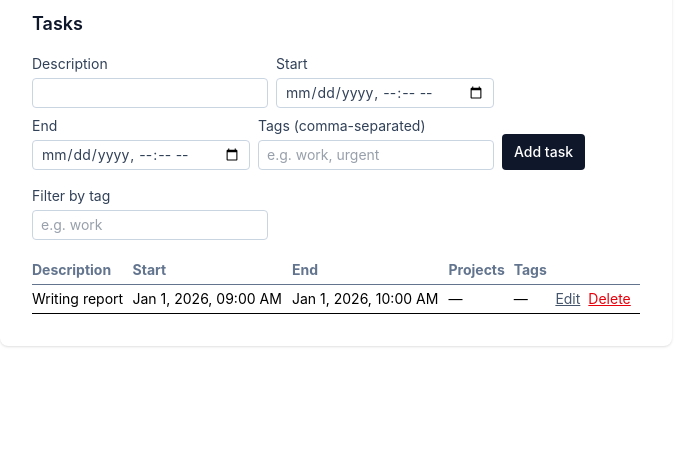
Test: TaskList › cancels editing without saving
Expected: the text "Writing report" is shown, [32,284,132,314]
Click the button "Edit".
click(568, 299)  # box [555,289,580,309]
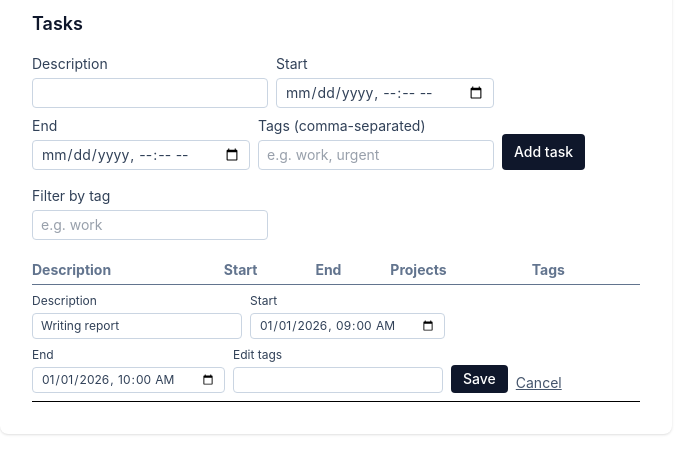
Click the button "Cancel".
click(539, 383)  # box [516,373,562,393]
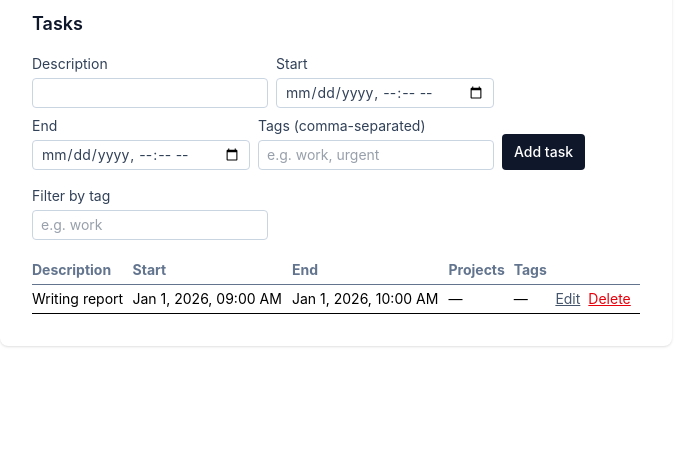
Expected: the button "Save" is gone
